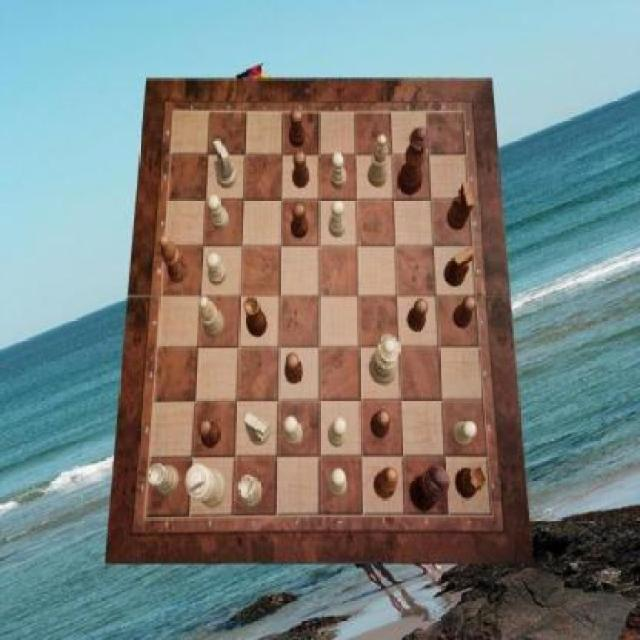bishop: (158, 235, 188, 283), (374, 468, 398, 500)
black-bishop: (411, 466, 451, 512)
black-king: (448, 183, 474, 231), (444, 248, 474, 286)
black-knight: (454, 296, 477, 330), (198, 418, 221, 449), (408, 298, 428, 332), (294, 151, 311, 188), (290, 109, 306, 148), (291, 203, 308, 239), (371, 411, 391, 438), (285, 354, 302, 384)
black-pawn: (397, 129, 430, 197)
black-queen: (244, 297, 268, 338), (456, 468, 486, 500)
black-rook: (368, 134, 388, 188), (200, 295, 225, 338)
white-bishop: (185, 464, 227, 508)
white-king: (212, 140, 236, 189), (244, 412, 270, 446)
white-knight: (208, 196, 228, 232), (330, 152, 348, 190), (452, 421, 477, 447), (328, 200, 345, 238), (208, 254, 228, 286), (283, 417, 303, 448), (328, 469, 348, 497), (328, 417, 345, 448)
white-pawn: (369, 334, 399, 386)
white-queen: (149, 465, 180, 497), (238, 476, 262, 510)
